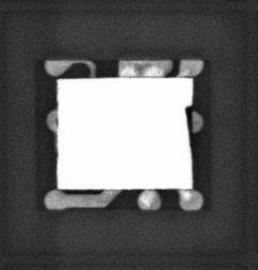DIE_BROKEN: (183, 102, 195, 155)
